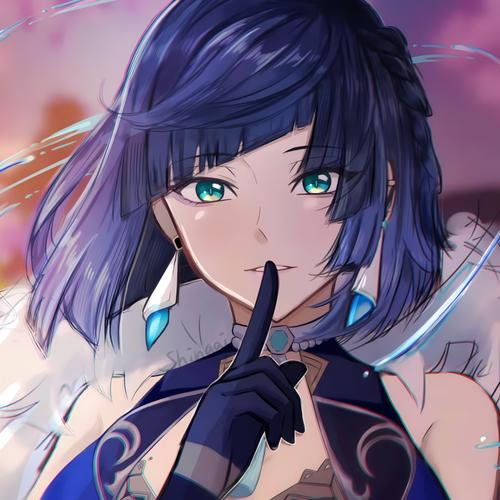夜兰: (21, 1, 499, 498)
